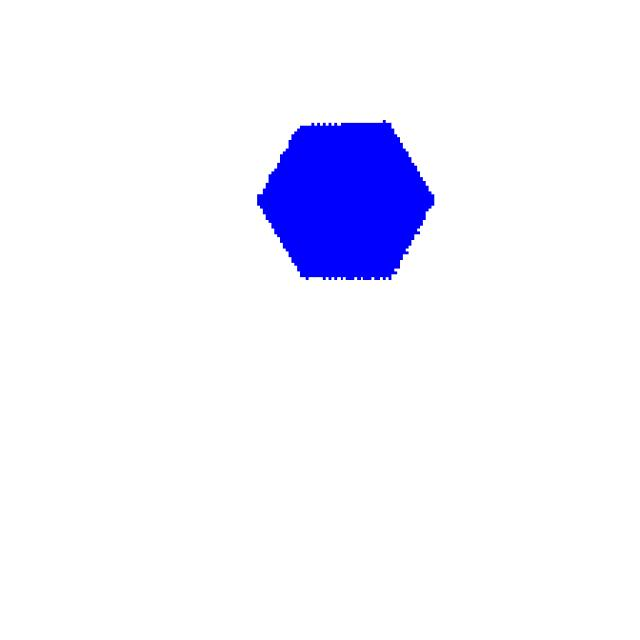Hexagon: (237, 92, 452, 337)
